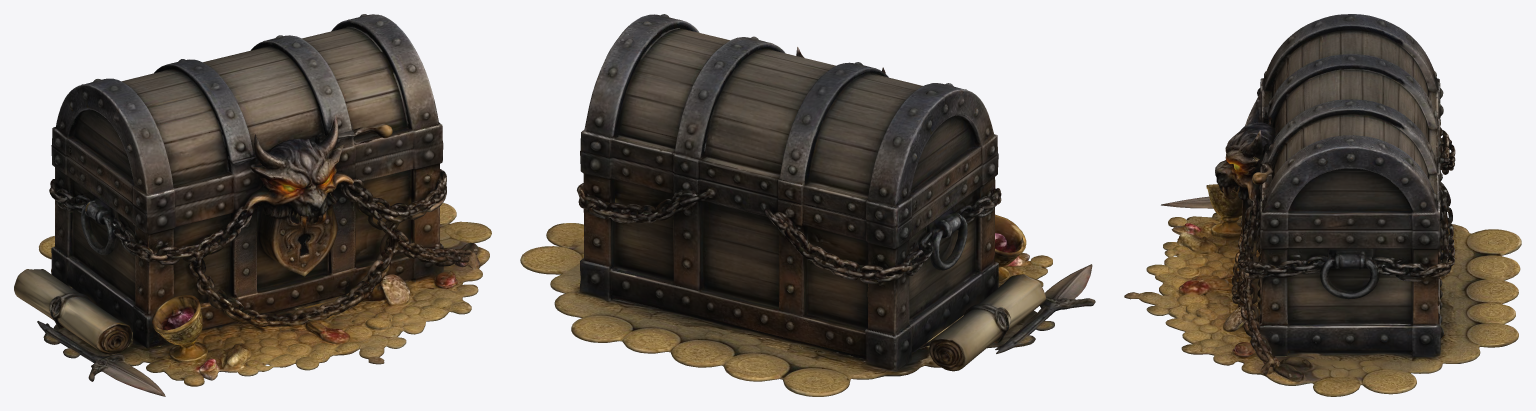
The model's file is esya_sandik.glb.
3 views of the same model, side by side, from view 1: azimuth 30°, elevation 25°; view 2: azimuth 150°, elevation 25°; view 3: azimuth 270°, elevation 25° (orthographic). The views are drawn at different scales.
Parts seen in each view (by area): view 1: node_0; view 2: node_0; view 3: node_0.
Boxes of the visible parts, x1,y1,x2,y2 form: node_0: (14, 14, 491, 396); node_0: (520, 14, 1095, 396); node_0: (1124, 14, 1521, 396).
Size of the model in its own units: 1.03 by 0.4924 by 0.8291.
Materials: 1 (1 with a texture image).
